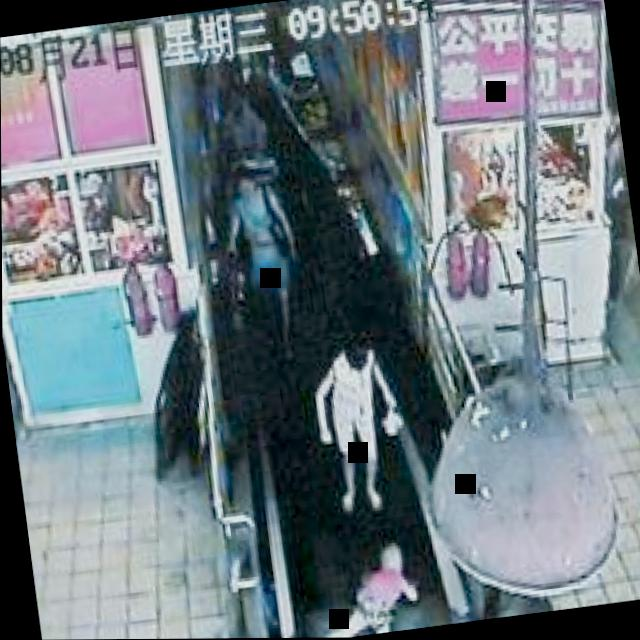Fall-Detected: (275, 525, 424, 638)
